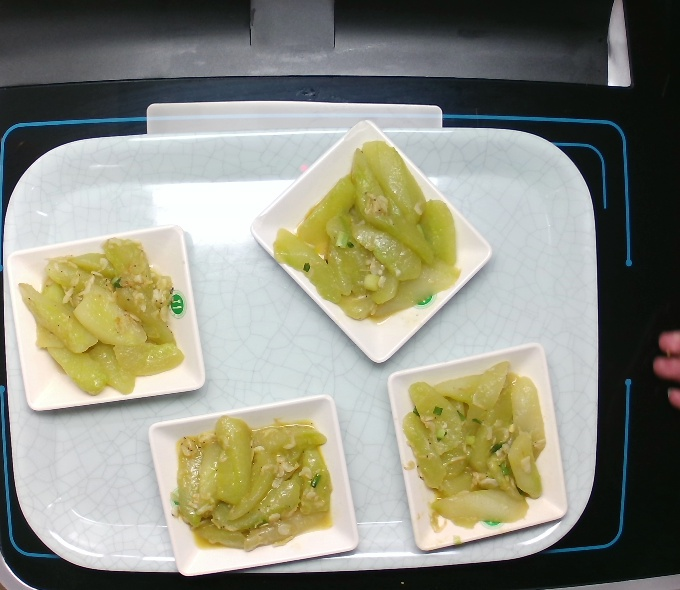wcq-HuangGua: (268, 135, 464, 324), (14, 232, 192, 406), (394, 355, 553, 536), (162, 407, 340, 559)
